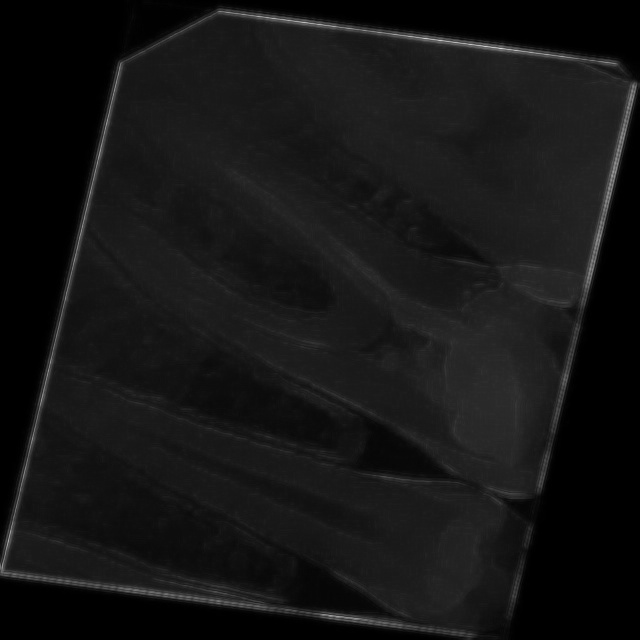Class 1- complete endodontic treatment: (49, 132, 573, 451)
